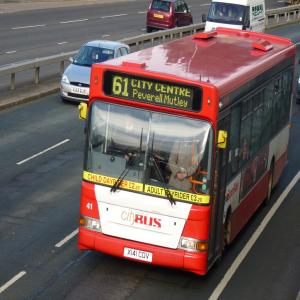Vehicle-registration-plate: (124, 249, 154, 263), (72, 86, 87, 96), (155, 15, 165, 19)
